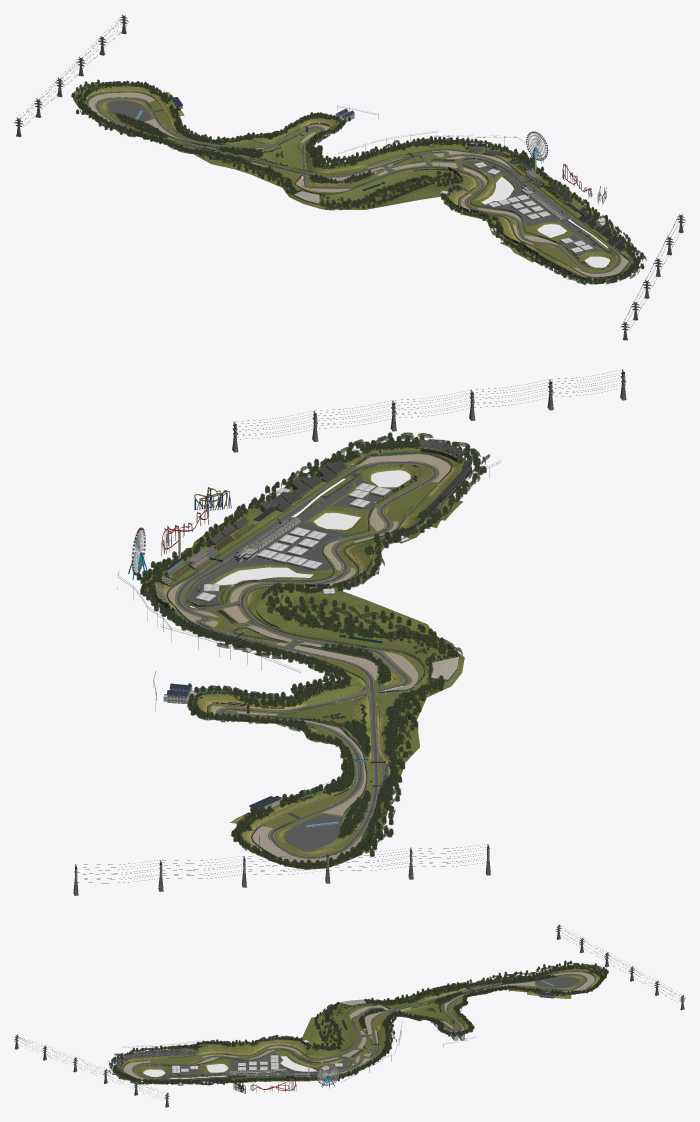
File: SUP_suzuka_circuit_2001_layout.glb
3 renders of one model, top to bottom at view 1: azimuth 30°, elevation 25°; view 2: azimuth 150°, elevation 25°; view 3: azimuth 270°, elevation 25°, orthographic. The views are drawn at different scales.
Visible parts, largest first — view 1: SUP_suzuka_circuit_2001_layout; view 2: SUP_suzuka_circuit_2001_layout; view 3: SUP_suzuka_circuit_2001_layout.
Boxes of the visible parts, left/top/right/bottom form: SUP_suzuka_circuit_2001_layout: left=14, top=14, right=685, bottom=340; SUP_suzuka_circuit_2001_layout: left=73, top=369, right=626, bottom=895; SUP_suzuka_circuit_2001_layout: left=14, top=924, right=685, bottom=1107.
Size of the model in its own units: 1671 by 158 by 2972.
100 materials, 98 textured.
